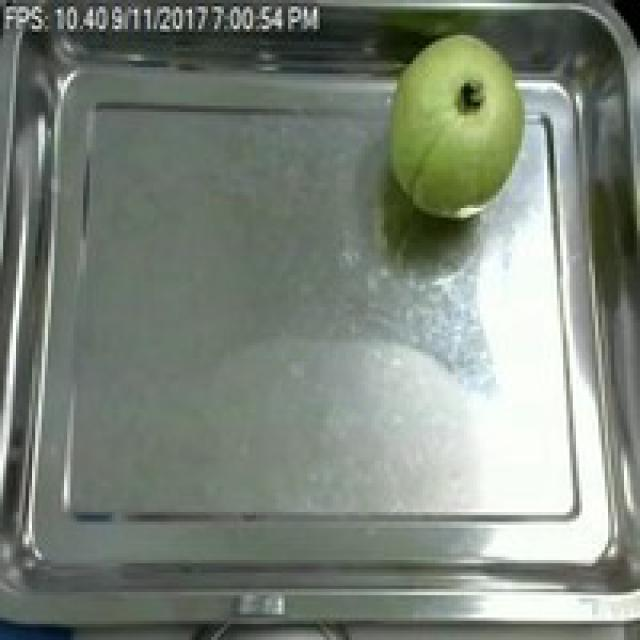Fruit: (368, 19, 544, 234)
